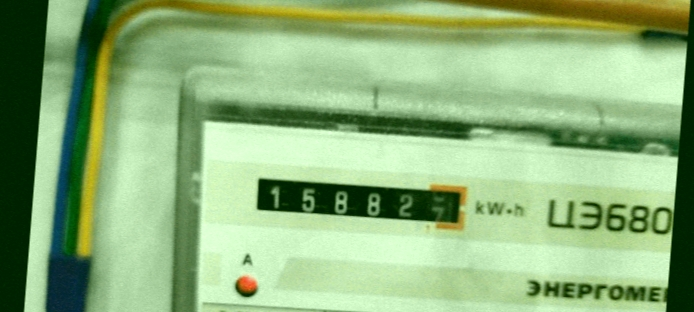1: (266, 182, 282, 208)
2: (396, 190, 413, 215)
5: (298, 184, 316, 211)
7: (428, 201, 444, 221)
8: (331, 187, 349, 214), (364, 189, 381, 215)
screen: (239, 159, 476, 240)
